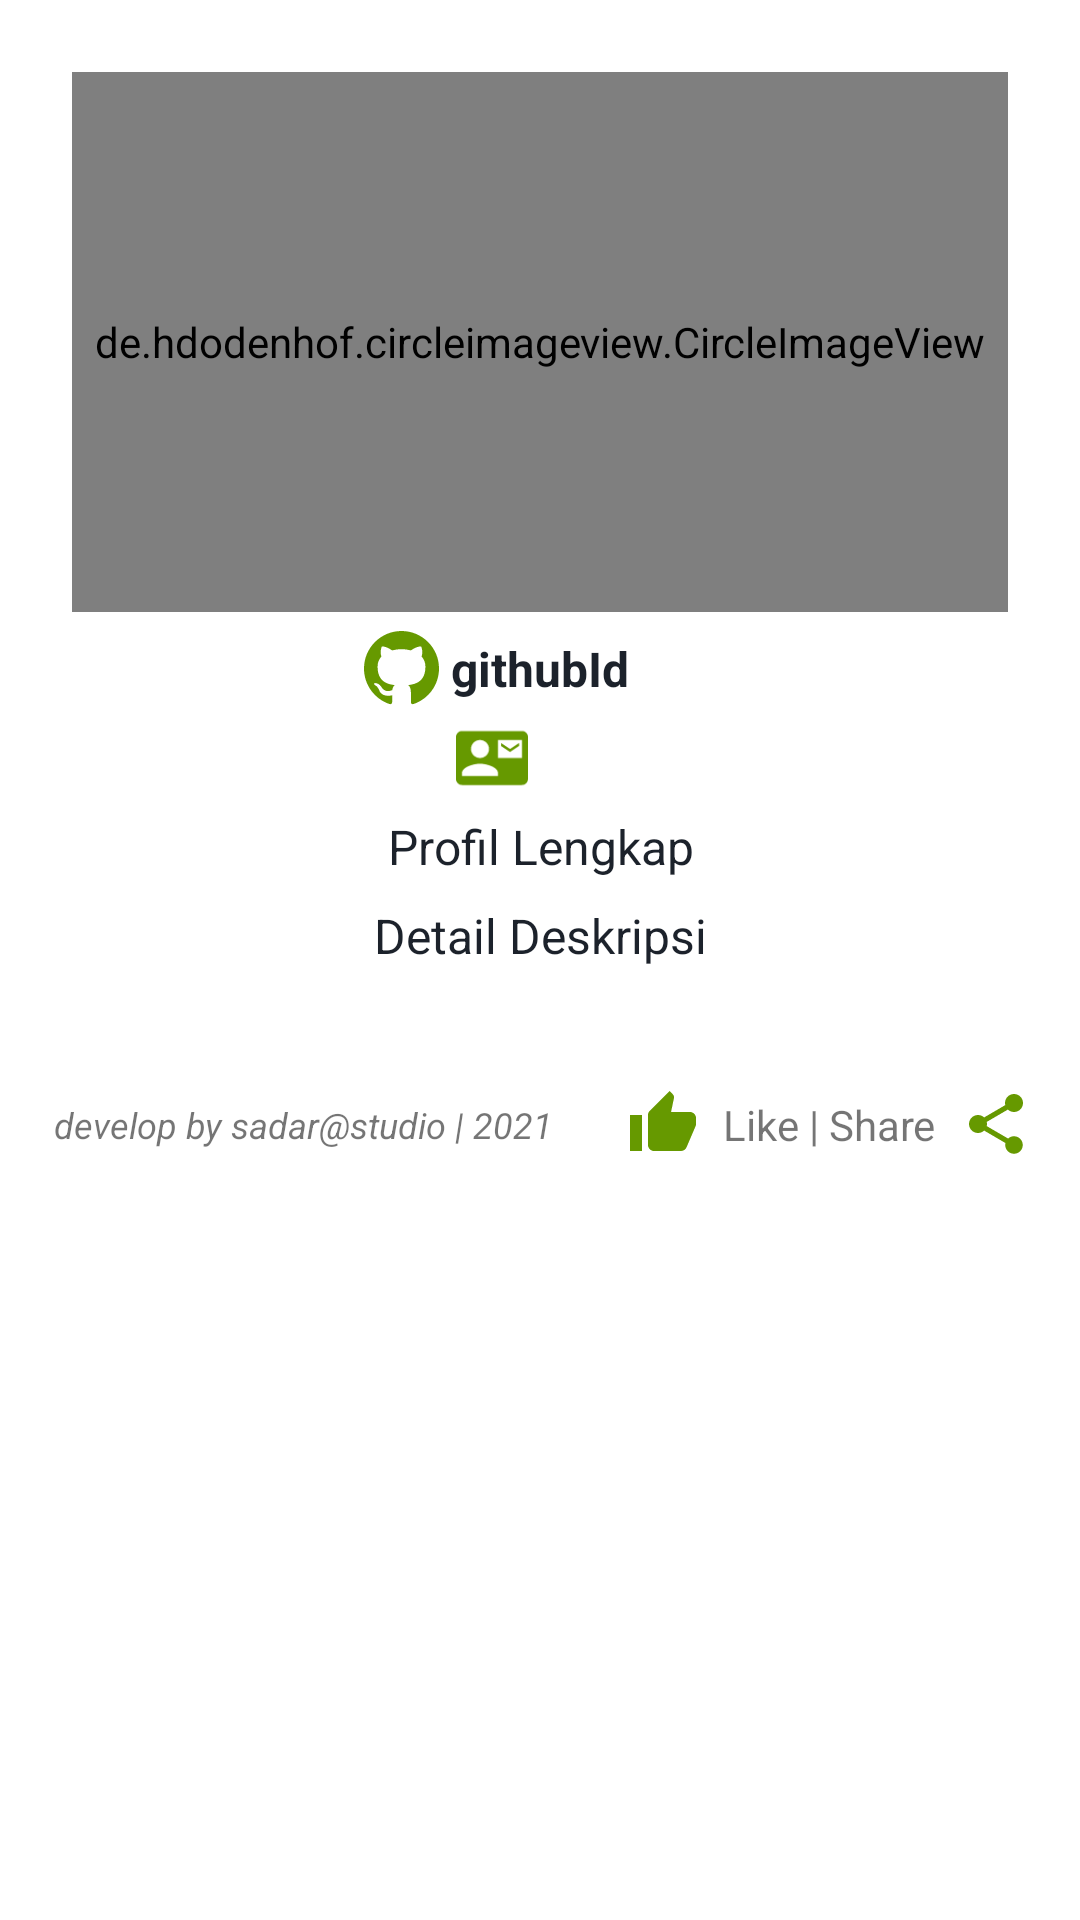

Icon click points for this 1080 × 1920 phone screenshot, format (x,y):
iconnama: (492,758)
thumb up: (663,1121)
tombolshare: (996,1124)
